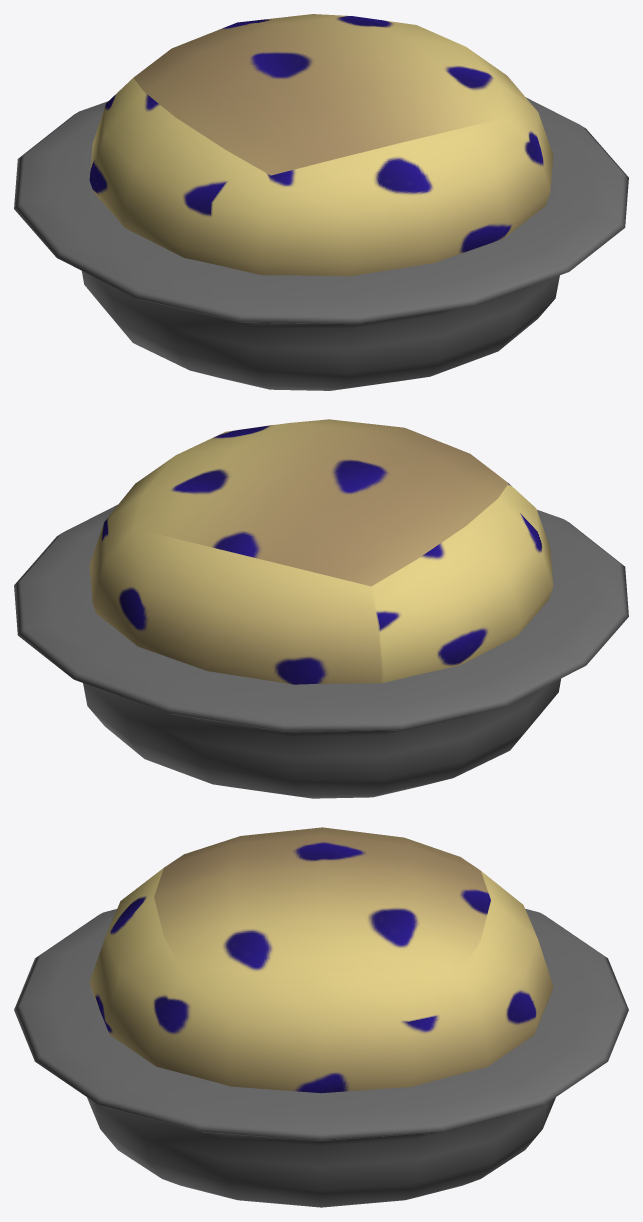
The model's file is pieeee.fbx.
3 views of the same model, one above another, from view 1: azimuth 30°, elevation 25°; view 2: azimuth 150°, elevation 25°; view 3: azimuth 270°, elevation 25° (orthographic).
Visible parts, largest first — view 1: Cube.001, Cube; view 2: Cube.001, Cube; view 3: Cube.001, Cube.
Boxes of the visible parts, x1,y1,x2,y2 form: Cube.001: (89,14,553,276); Cube: (14,97,628,390); Cube.001: (89,419,553,684); Cube: (14,504,628,798); Cube.001: (89,827,553,1093); Cube: (14,909,628,1207).
Bounding box in the file's own units: 261 × 133 × 261.
